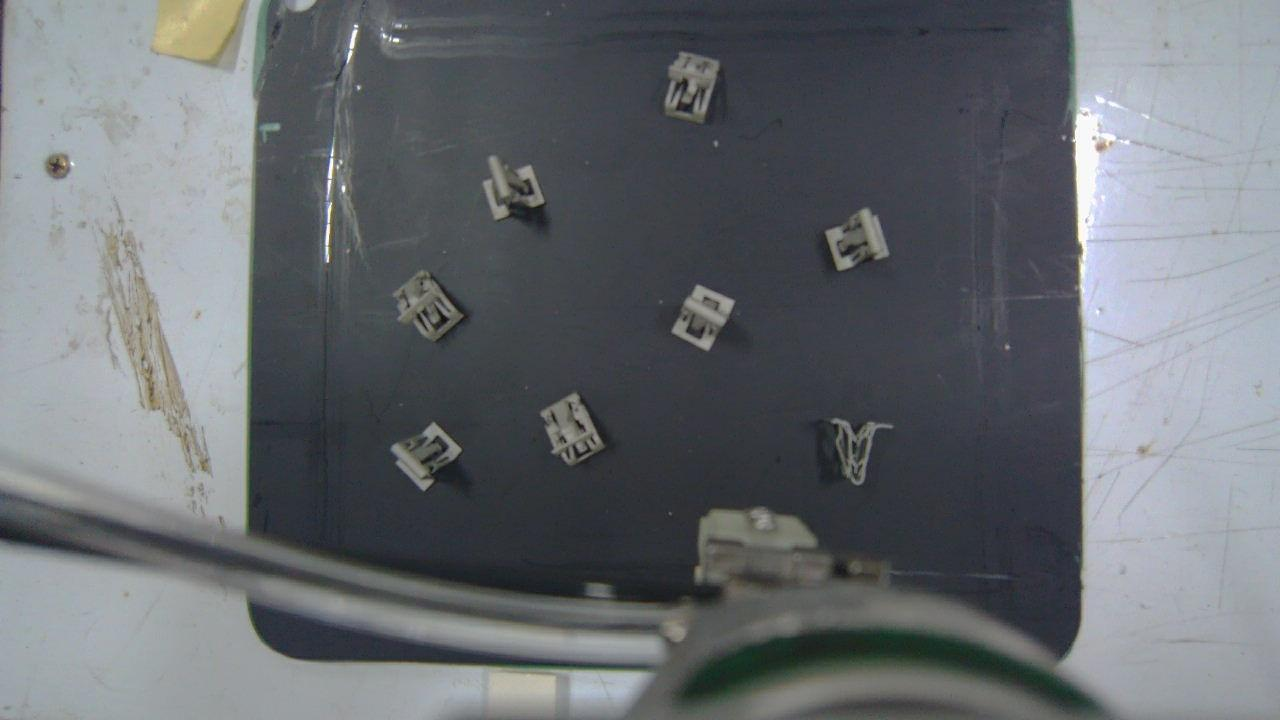ng: (392, 268, 464, 342), (391, 422, 462, 492), (540, 392, 604, 465), (831, 419, 895, 486), (825, 207, 890, 271), (664, 51, 722, 121)
pass: (671, 284, 734, 351), (481, 156, 545, 220)
